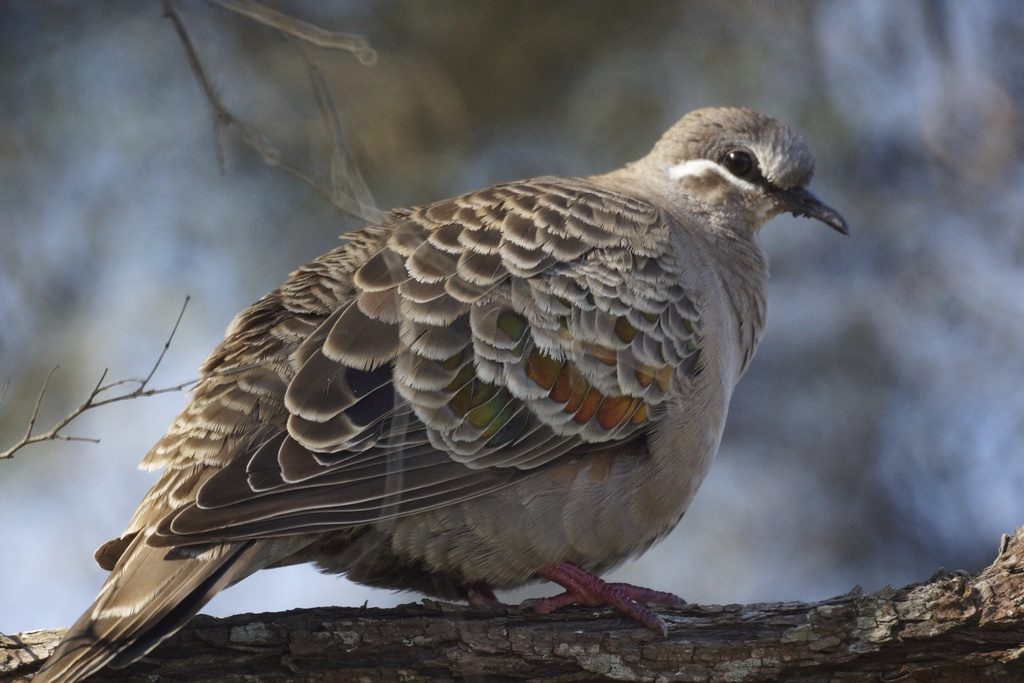Bird: (29, 107, 852, 683)
